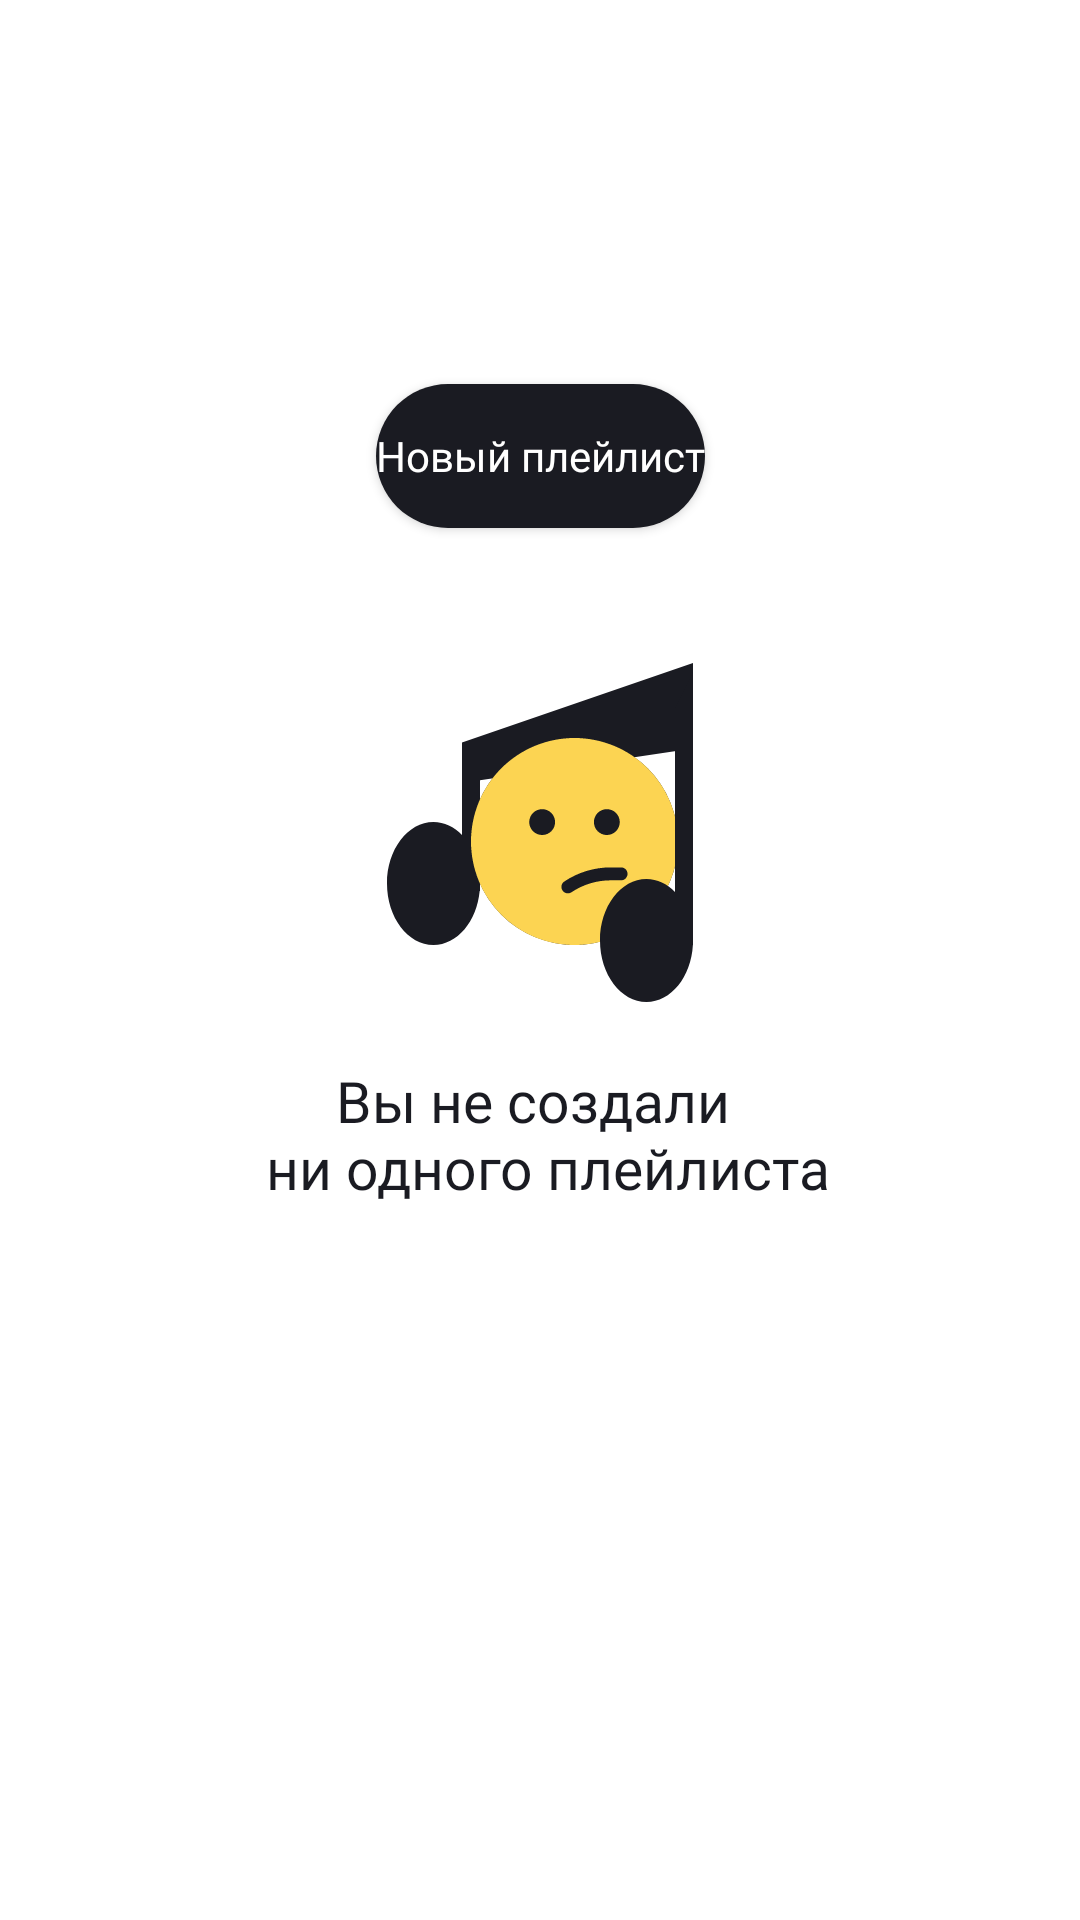

Where to tap for icons on this 1080x1920 app screen, as point (x, y):
Нет плейлистов: point (540, 832)
